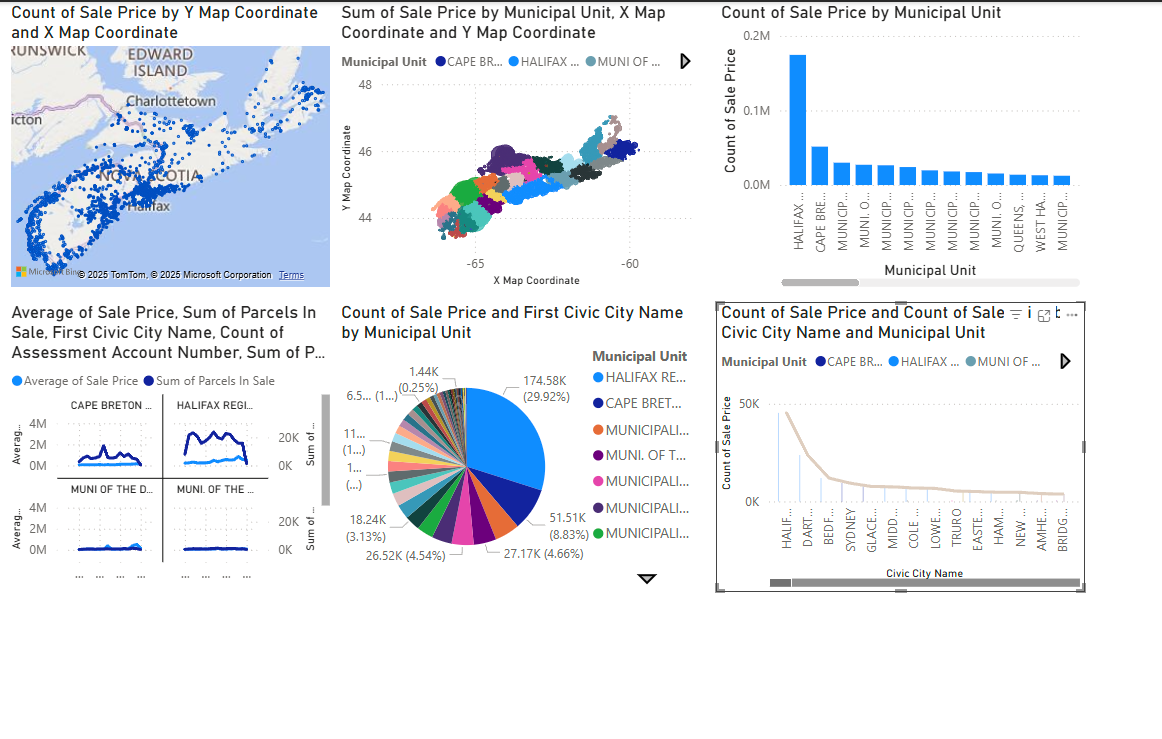

What the dashboard file says about the page in this screenshot:
{"tool":"powerbi","page":{"name":"Page 1","canvas":[1280,720],"ordinal":0},"visuals":[{"type":"map","fields":{"Y":["Parcel_Sales_History_20250321.Y Map Coordinate"],"X":["Parcel_Sales_History_20250321.X Map Coordinate"],"Size":["CountNonNull(Parcel_Sales_History_20250321.Sale Price)"]},"box":[10.7,0,320,282.1],"z":0},{"type":"scatterChart","fields":{"Y":["Parcel_Sales_History_20250321.Y Map Coordinate"],"X":["Parcel_Sales_History_20250321.X Map Coordinate"],"Series":["Parcel_Sales_History_20250321.Municipal Unit"],"Size":["Sum(Parcel_Sales_History_20250321.Sale Price)"]},"box":[331.6,0,359.4,281.6],"z":1000},{"type":"lineChart","fields":{"Category":["Parcel_Sales_History_20250321.Sale Date.Variation.Date Hierarchy.Year"],"Y":["Avg(Parcel_Sales_History_20250321.Sale Price)"],"Y2":["Sum(Parcel_Sales_History_20250321.Parcels In Sale)"],"Rows":["Parcel_Sales_History_20250321.Municipal Unit"]},"box":[11,292,320,282],"z":2000},{"type":"pieChart","fields":{"Y":["CountNonNull(Parcel_Sales_History_20250321.Sale Price)"],"Category":["Parcel_Sales_History_20250321.Municipal Unit"]},"box":[332,292,359,282],"z":3000},{"type":"clusteredColumnChart","fields":{"Category":["Parcel_Sales_History_20250321.Municipal Unit"],"Y":["CountNonNull(Parcel_Sales_History_20250321.Sale Price)"]},"box":[701,0,359,282],"z":4000},{"type":"lineClusteredColumnComboChart","fields":{"Y":["CountNonNull(Parcel_Sales_History_20250321.Sale Price)"],"Series":["Parcel_Sales_History_20250321.Municipal Unit"],"Y2":["CountNonNull(Parcel_Sales_History_20250321.Sale Price)"],"Category":["Parcel_Sales_History_20250321.Civic City Name"]},"box":[701,292,359,282],"z":5000}]}

Visuals, with their boxes on the page's 1280x720 design canvas (x1, y1, x2, y2). These are canvas units, not pixel positions in the 1162x739 screenshot, which may show the page scaled, cropped or inside an application window:
map - Parcel_Sales_History_20250321.Y Map Coordinate x Parcel_Sales_History_20250321.X Map Coordinate: <region>11, 0, 331, 282</region>
scatterChart - Parcel_Sales_History_20250321.Y Map Coordinate x Parcel_Sales_History_20250321.X Map Coordinate: <region>332, 0, 691, 282</region>
lineChart - Parcel_Sales_History_20250321.Sale Date.Variation.Date Hierarchy.Year x Avg(Parcel_Sales_History_20250321.Sale Price): <region>11, 292, 331, 574</region>
pieChart - CountNonNull(Parcel_Sales_History_20250321.Sale Price) x Parcel_Sales_History_20250321.Municipal Unit: <region>332, 292, 691, 574</region>
clusteredColumnChart - Parcel_Sales_History_20250321.Municipal Unit x CountNonNull(Parcel_Sales_History_20250321.Sale Price): <region>701, 0, 1060, 282</region>
lineClusteredColumnComboChart - CountNonNull(Parcel_Sales_History_20250321.Sale Price) x Parcel_Sales_History_20250321.Municipal Unit: <region>701, 292, 1060, 574</region>
